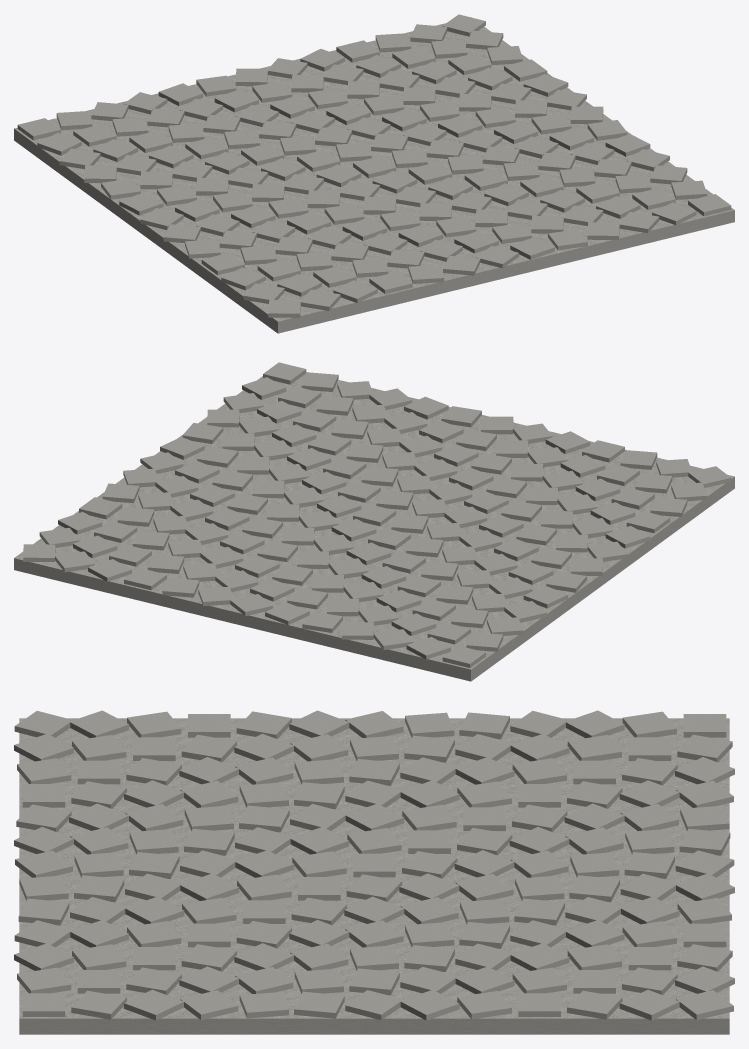
Rendered from forge-yard-cobbles-4-m.glb.
3 views of the same model, one above another, from view 1: azimuth 30°, elevation 25°; view 2: azimuth 150°, elevation 25°; view 3: azimuth 270°, elevation 25° (orthographic). The views are drawn at different scales.
Visible parts, largest first — view 1: blacksmith-forge-and-armoury-forge-floor-slab-cobbled; view 2: blacksmith-forge-and-armoury-forge-floor-slab-cobbled; view 3: blacksmith-forge-and-armoury-forge-floor-slab-cobbled.
Part boxes in pixels (x1=…): blacksmith-forge-and-armoury-forge-floor-slab-cobbled: x1=14, y1=14, x2=734, y2=333; blacksmith-forge-and-armoury-forge-floor-slab-cobbled: x1=14, y1=362, x2=734, y2=681; blacksmith-forge-and-armoury-forge-floor-slab-cobbled: x1=14, y1=710, x2=734, y2=1034.
Bounding box in the file's own units: 4.06 × 0.1348 × 4.06.
Materials: 1 (1 with a texture image).
